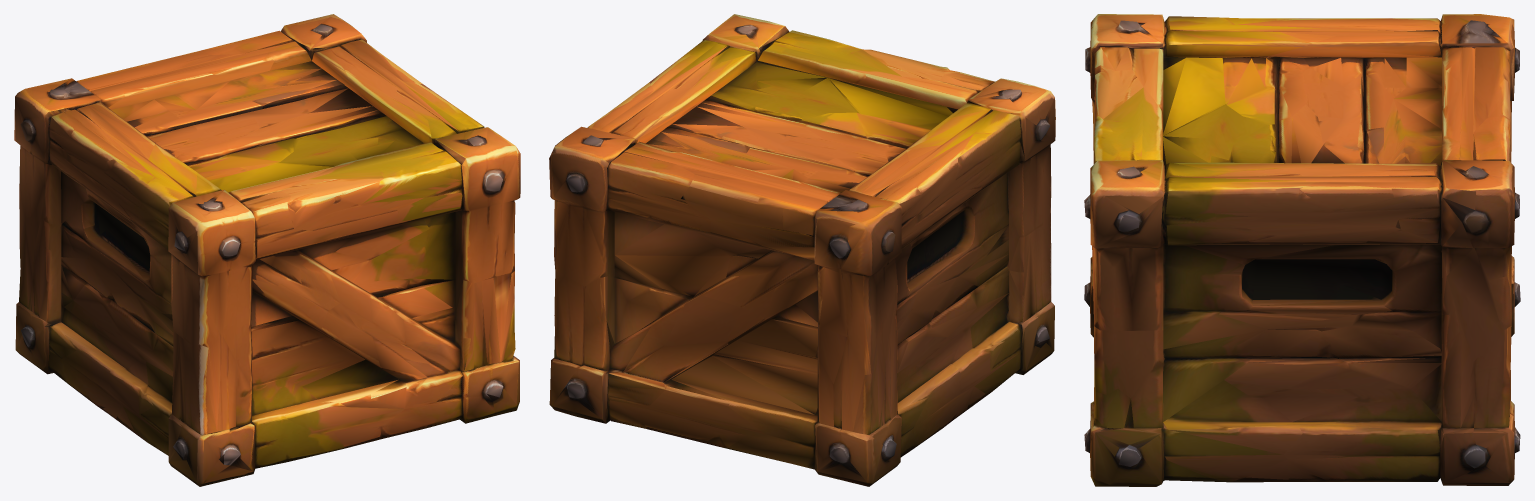
File: CC_prop_woodenbox.fbx
3 renders of one model, left to right at view 1: azimuth 30°, elevation 25°; view 2: azimuth 150°, elevation 25°; view 3: azimuth 270°, elevation 25°, orthographic. The views are drawn at different scales.
Visible parts, largest first — view 1: CC_prop_woodenbox_LOD0; view 2: CC_prop_woodenbox_LOD0; view 3: CC_prop_woodenbox_LOD0.
Boxes of the visible parts, bbox=[...] form: CC_prop_woodenbox_LOD0: bbox=[14, 14, 520, 486]; CC_prop_woodenbox_LOD0: bbox=[549, 14, 1055, 486]; CC_prop_woodenbox_LOD0: bbox=[1084, 14, 1520, 486].
Size of what is drawn, in the model's own units: 0.9803 by 0.7645 by 0.9839.
